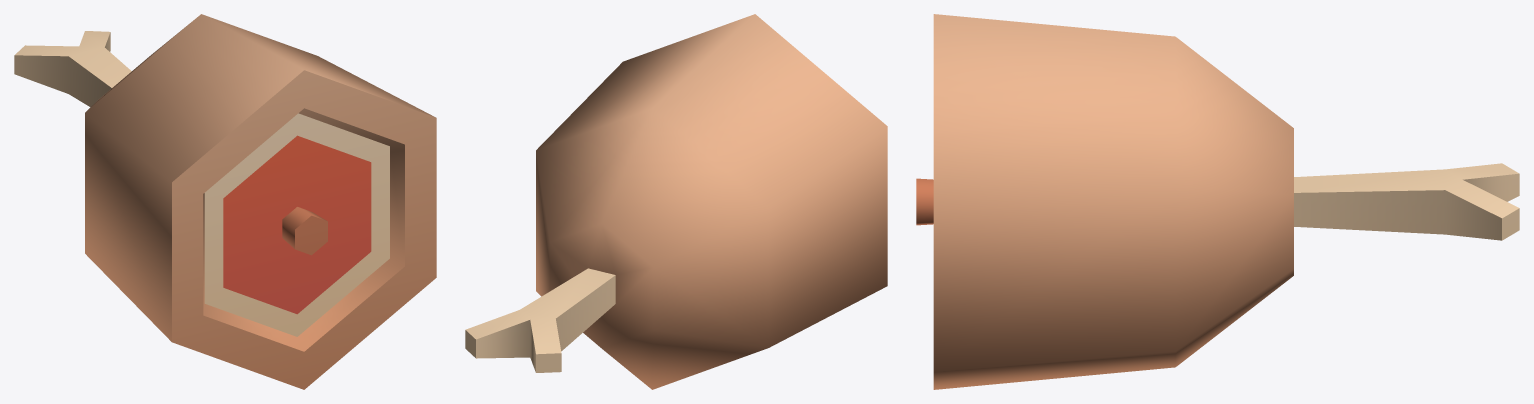
File: whole-ham.glb
3 renders of one model, left to right at view 1: azimuth 30°, elevation 25°; view 2: azimuth 150°, elevation 25°; view 3: azimuth 270°, elevation 25°, orthographic. The views are drawn at different scales.
Visible parts, largest first — view 1: whole-ham; view 2: whole-ham; view 3: whole-ham.
Part boxes in pixels (box(x1,y1,x2,y2)): whole-ham: box(14, 14, 436, 389); whole-ham: box(465, 14, 887, 389); whole-ham: box(916, 14, 1519, 389).
Size of the model in its own units: 0.3809 by 0.4399 by 0.6397.
1 material, 1 textured.
